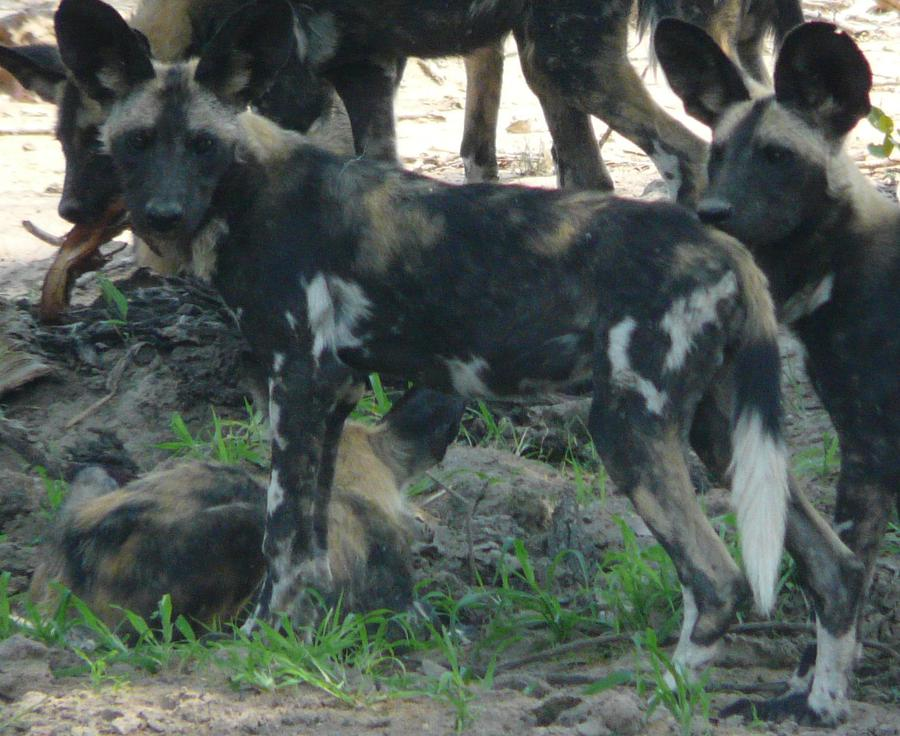wilddog: (1, 1, 900, 736)
